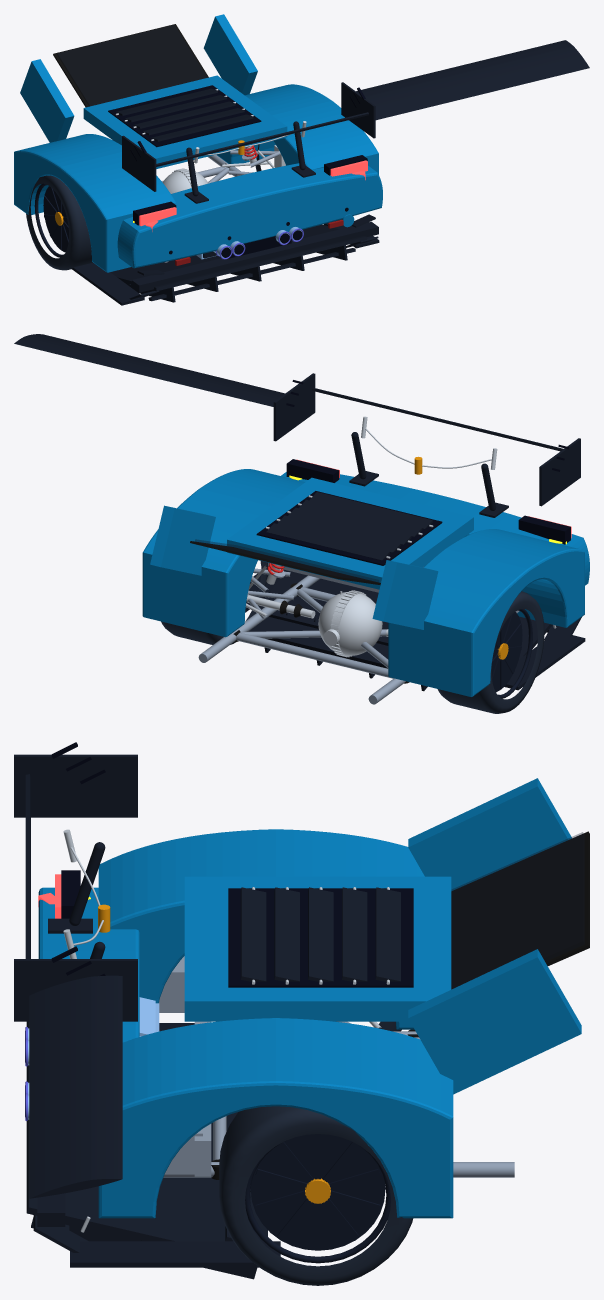
The model's file is rear_car_assembly_exploded.glb.
3 renders of one model, top to bottom at view 1: azimuth 30°, elevation 25°; view 2: azimuth 150°, elevation 25°; view 3: azimuth 270°, elevation 25°, orthographic. The views are drawn at different scales.
Visible parts, largest first — view 1: Sculpted_Rear_Bumper_Fascia, Sculpted_Fender_Haunch_LH, Backlite_EPDM_Encapsulation_Seal, Tinted_Rear_Backlite_Glass, Cambered_Main_Airfoil_Element, Sculpted_Fender_Haunch_RH, Rear_Trunk_Decklid, Bumper_Integrated_Lower_Lip_Splitter, Engine_Deck_Louver_Recess_Frame, Fastback_C_Pillar_Buttress_LH, 335_Compound_Tire_LH, Fastback_C_Pillar_Buttress_RH (+14 smaller); view 2: Sculpted_Fender_Haunch_LH, Sculpted_Fender_Haunch_RH, Rear_Trunk_Decklid, Cambered_Main_Airfoil_Element, Venturi_Expansion_Tray_Primary, Fastback_C_Pillar_Buttress_LH, Fastback_C_Pillar_Buttress_RH, Sculpted_Rear_Bumper_Fascia, Transaxle_Differential_Housing, 335_Compound_Tire_LH, Aero_Endplate_RH, Aero_Endplate_LH (+19 smaller); view 3: Sculpted_Fender_Haunch_RH, Rear_Trunk_Decklid, Cambered_Main_Airfoil_Element, Sculpted_Fender_Haunch_LH, Backlite_EPDM_Encapsulation_Seal, Fastback_C_Pillar_Buttress_RH, Tinted_Rear_Backlite_Glass, 335_Compound_Tire_RH, Fastback_C_Pillar_Buttress_LH, Wheel_Face_Disc_RH, Aero_Endplate_LH, Venturi_Expansion_Tray_Primary (+20 smaller).
Part boxes in pixels (x1,y1,x2,y2): Sculpted_Rear_Bumper_Fascia: (117,163,382,268); Sculpted_Fender_Haunch_LH: (14,134,175,272); Backlite_EPDM_Encapsulation_Seal: (53,24,208,107); Tinted_Rear_Backlite_Glass: (57,25,207,106); Cambered_Main_Airfoil_Element: (356,40,589,120); Sculpted_Fender_Haunch_RH: (216,84,378,174); Rear_Trunk_Decklid: (83,75,287,168); Bumper_Integrated_Lower_Lip_Splitter: (132,221,378,292); Engine_Deck_Louver_Recess_Frame: (108,85,261,147); Fastback_C_Pillar_Buttress_LH: (20,59,74,142); 335_Compound_Tire_LH: (26,175,92,270); Fastback_C_Pillar_Buttress_RH: (203,14,257,95); Sculpted_Fender_Haunch_LH: (388,529,584,696); Sculpted_Fender_Haunch_RH: (142,469,305,637); Rear_Trunk_Decklid: (227,477,473,589); Cambered_Main_Airfoil_Element: (14,334,284,406); Venturi_Expansion_Tray_Primary: (248,570,552,692); Fastback_C_Pillar_Buttress_LH: (372,560,438,629); Fastback_C_Pillar_Buttress_RH: (150,505,215,575); Sculpted_Rear_Bumper_Fascia: (281,472,589,585); Transaxle_Differential_Housing: (318,592,382,655); 335_Compound_Tire_LH: (437,591,544,713); Aero_Endplate_RH: (273,373,315,441); Aero_Endplate_LH: (539,438,580,506); Sculpted_Fender_Haunch_RH: (98,1018,453,1218); Rear_Trunk_Decklid: (184,876,451,1021); Cambered_Main_Airfoil_Element: (29,975,122,1198); Sculpted_Fender_Haunch_LH: (98,829,424,1029); Backlite_EPDM_Encapsulation_Seal: (451,831,589,989); Fastback_C_Pillar_Buttress_RH: (408,949,581,1094); Tinted_Rear_Backlite_Glass: (451,832,584,988); 335_Compound_Tire_RH: (219,1106,413,1285); Fastback_C_Pillar_Buttress_LH: (408,778,571,890); Wheel_Face_Disc_RH: (250,1134,385,1250); Aero_Endplate_LH: (14,754,137,817); Venturi_Expansion_Tray_Primary: (26,1021,267,1241).
Bounding box in the file's own units: 3.65 × 1.39 × 2.05.
